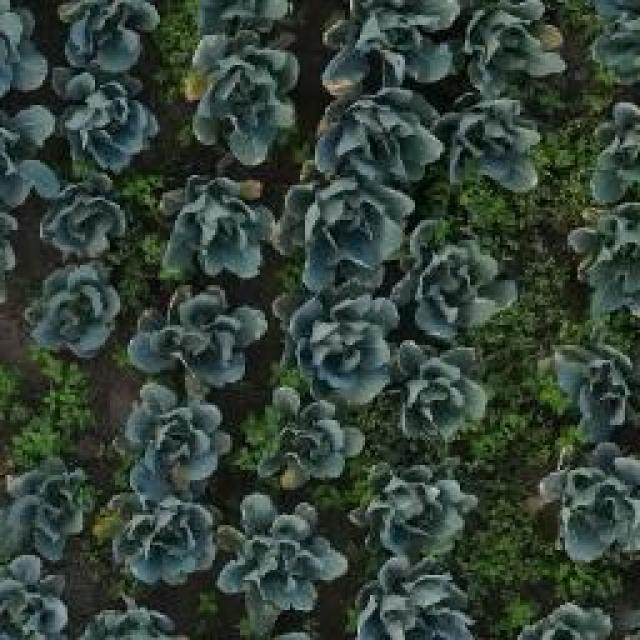cabbage: (212, 494, 350, 623), (123, 281, 268, 387), (183, 35, 298, 162), (114, 383, 240, 496), (406, 217, 522, 334), (286, 175, 414, 280), (280, 287, 392, 405), (245, 385, 367, 493), (316, 89, 446, 188), (156, 172, 274, 280), (51, 63, 161, 178), (323, 0, 456, 92), (541, 440, 640, 560), (394, 338, 495, 444), (356, 554, 478, 640), (373, 462, 480, 560), (20, 260, 121, 362), (111, 494, 218, 590), (540, 332, 640, 432), (443, 94, 542, 194), (1, 456, 96, 560), (463, 0, 571, 86), (568, 199, 640, 318), (49, 0, 162, 71), (33, 178, 128, 260), (0, 556, 67, 640)
